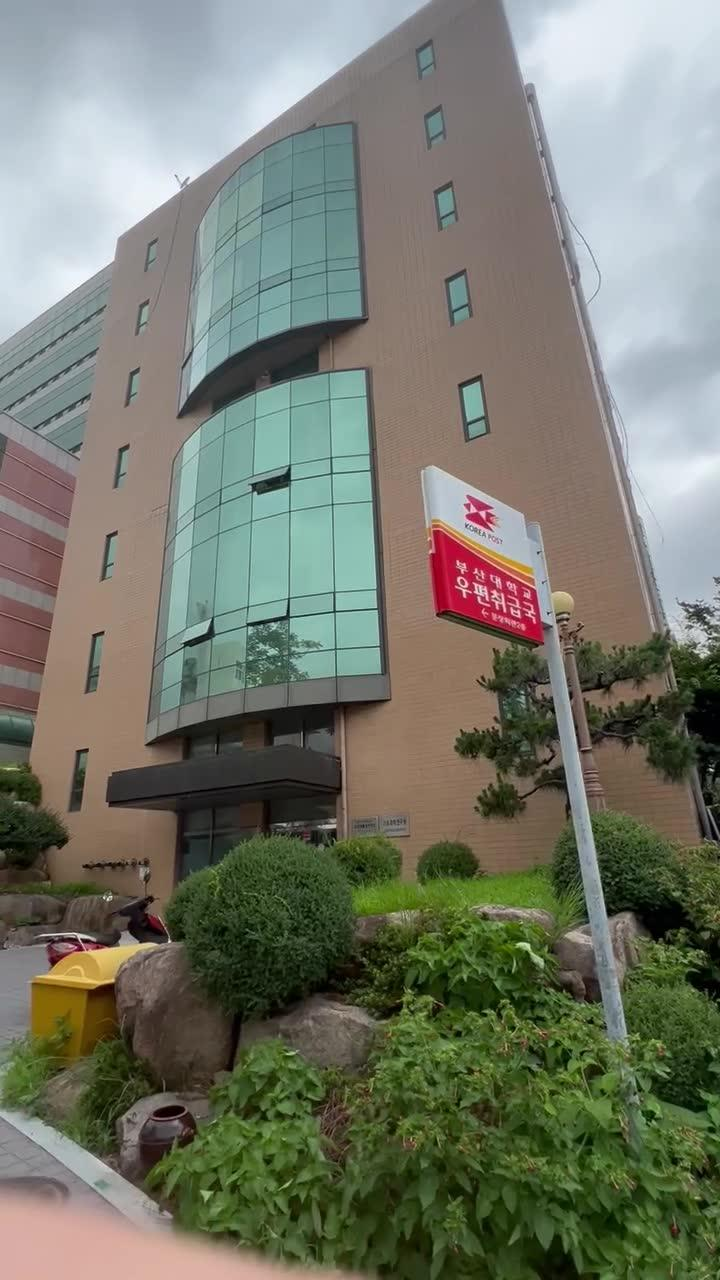building: (84, 146, 428, 846)
